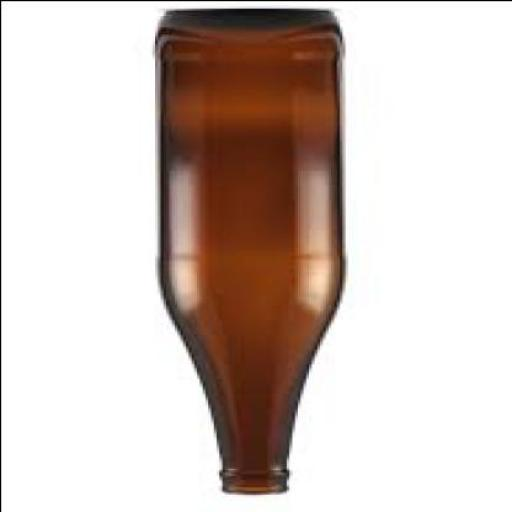glass: (156, 10, 347, 496)
